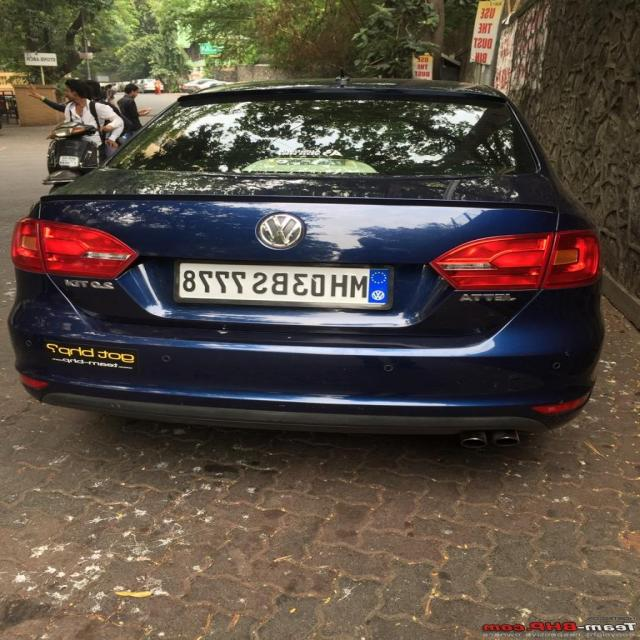number-plate: (143, 249, 395, 315)
